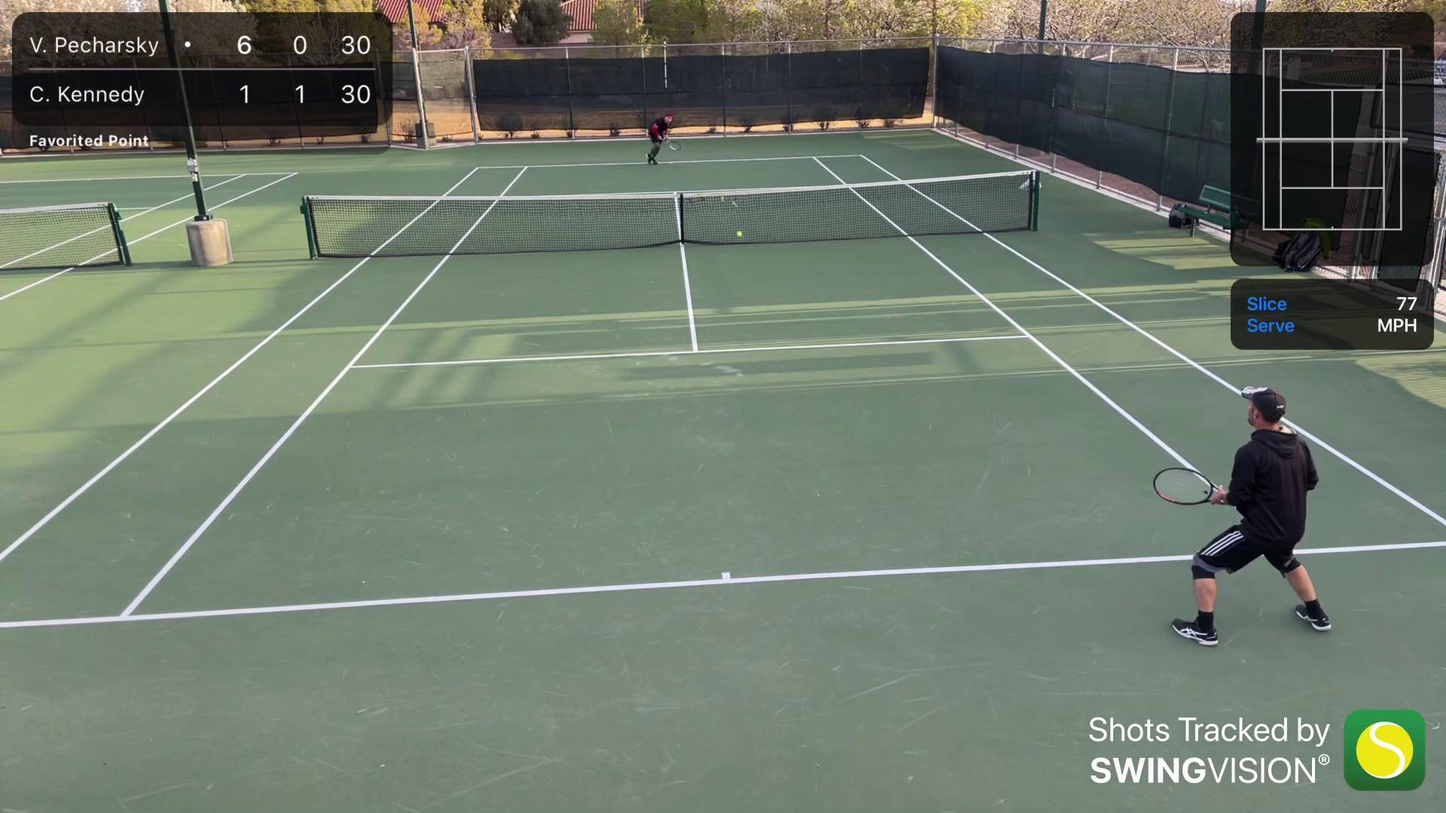ball: (735, 228, 744, 239)
